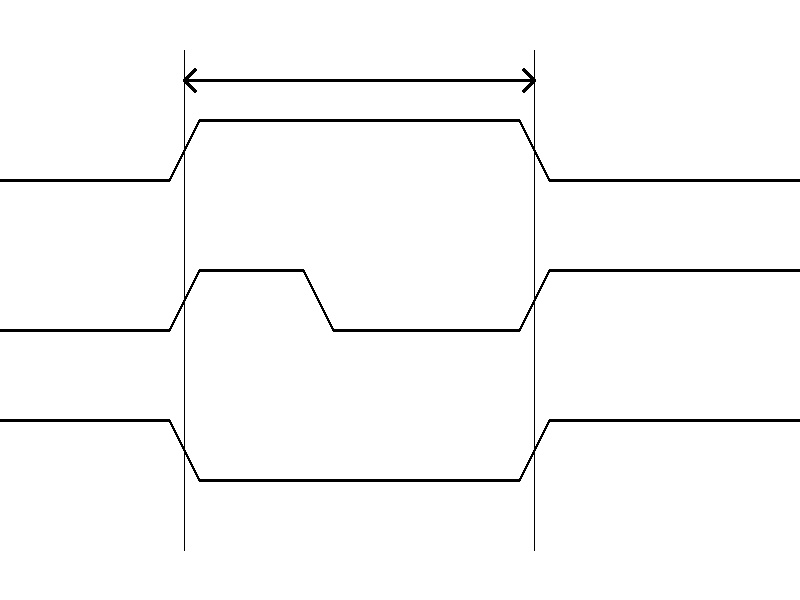double_arrow: (184, 65, 534, 95)
